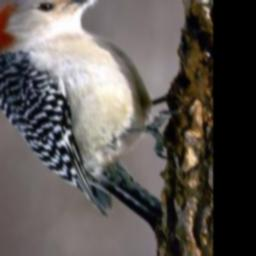Woodpecker: (0, 0, 180, 218)
